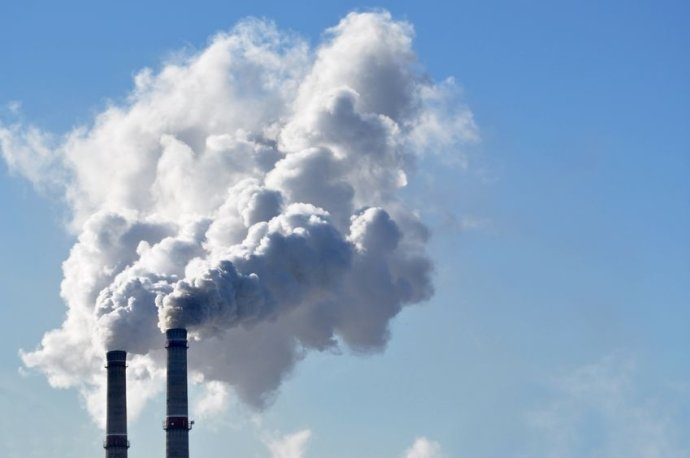dust: (157, 214, 334, 337), (91, 228, 187, 348)
